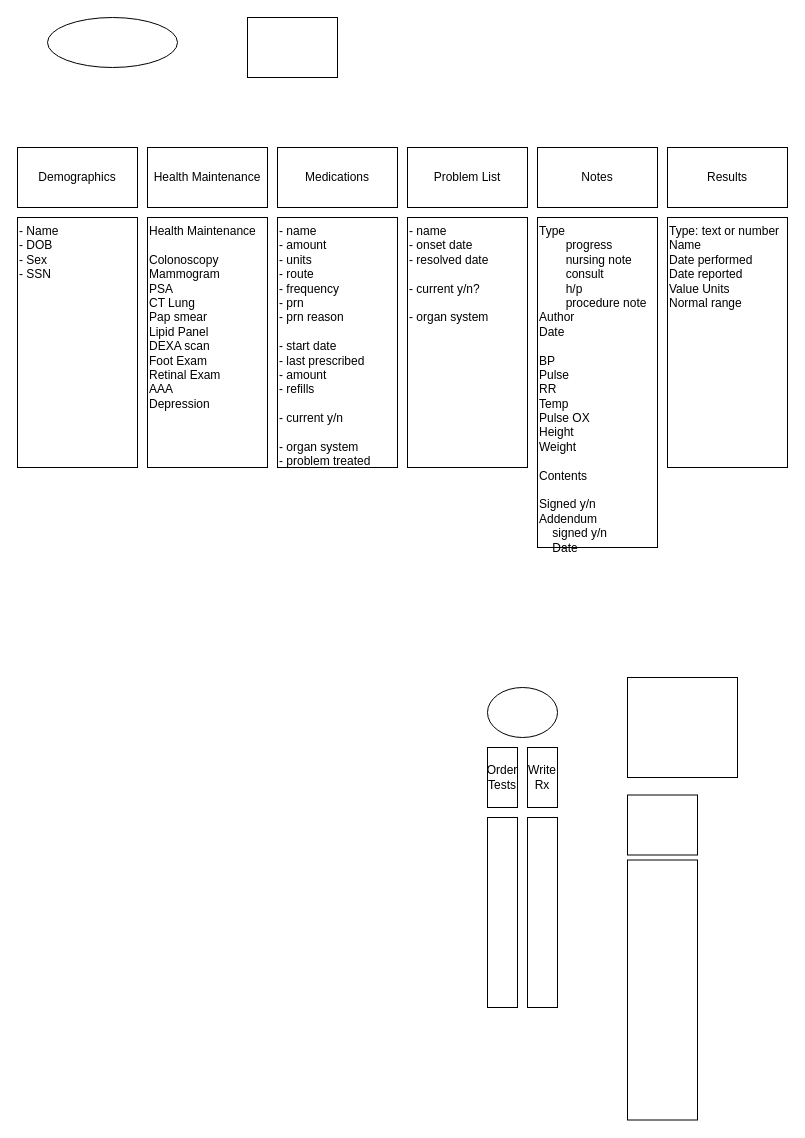
The diagram is 805 pixels wide and 1138 high, and some of its shapes have lost their labels. The centre of each missing label's shape, as x and y in pixels:
"The Chart": (x=112, y=42)
Filter by: Patient ID Date Provider: (x=682, y=727)
Patient ID: (x=292, y=47)
Patient ID Provider Start Time End Time Appointment ID: (x=662, y=989)
Scheduling information: (x=662, y=824)
Tasks to do.: (x=522, y=712)
